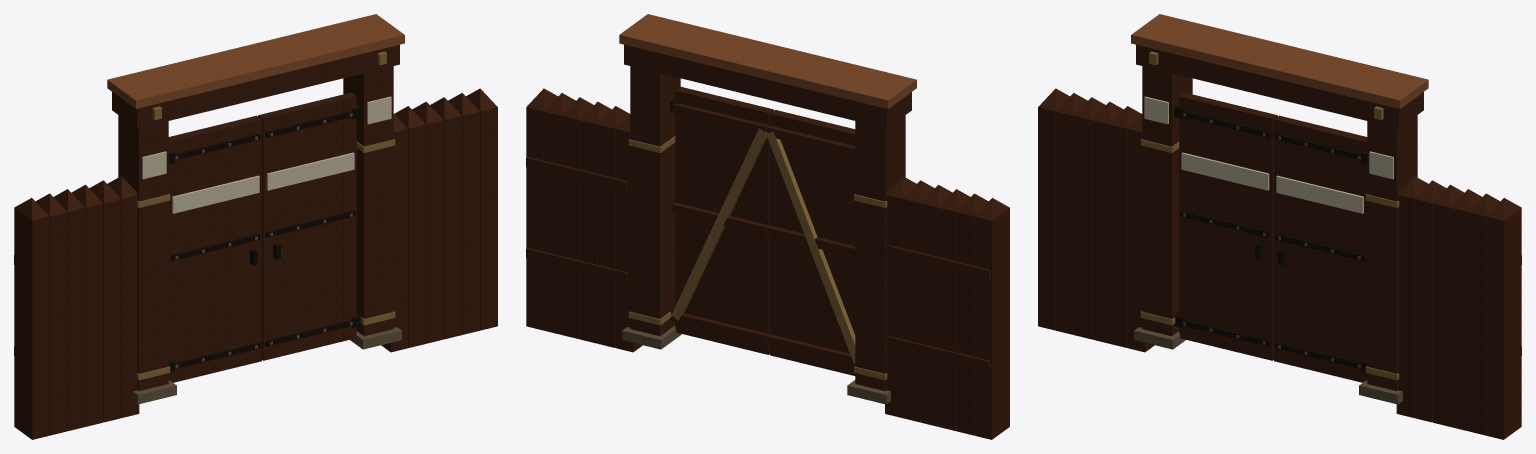
Rendered from Berber_PalisadeGate_Age1.fbx.
3 renders of one model, left to right at view 1: azimuth 30°, elevation 25°; view 2: azimuth 150°, elevation 25°; view 3: azimuth 330°, elevation 25°, orthographic.
Parts seen in each view (by area): view 1: lintel_earth_weather_cap, right_palm_gatepost, left_palm_gatepost, left_palisade_stake_5, mortised_palm_lintel, left_palisade_stake_3, left_palisade_stake_2, left_palisade_stake_4, left_palisade_stake_1, right_palisade_stake_1, right_palisade_stake_3, right_palisade_stake_2 (+30 smaller); view 2: right_palm_gatepost, lintel_earth_weather_cap, left_palm_gatepost, left_palisade_stake_5, mortised_palm_lintel, left_palisade_stake_1, left_palisade_stake_3, left_palisade_stake_2, left_palisade_stake_4, right_palisade_stake_3, right_palisade_stake_5, right_palisade_stake_1 (+32 smaller); view 3: lintel_earth_weather_cap, left_palm_gatepost, right_palm_gatepost, right_palisade_stake_5, mortised_palm_lintel, right_palisade_stake_3, right_palisade_stake_2, right_palisade_stake_4, left_palisade_stake_1, right_palisade_stake_1, left_palisade_stake_3, left_palisade_stake_2 (+30 smaller).
Part boxes in pixels (<box>): lintel_earth_weather_cap: <box>107,14,404,108</box>; right_palm_gatepost: <box>343,66,393,336</box>; left_palm_gatepost: <box>118,115,168,390</box>; left_palisade_stake_5: <box>14,198,49,439</box>; mortised_palm_lintel: <box>112,44,399,128</box>; left_palisade_stake_3: <box>53,189,85,430</box>; left_palisade_stake_2: <box>71,184,103,426</box>; left_palisade_stake_4: <box>35,193,67,435</box>; left_palisade_stake_1: <box>89,180,121,422</box>; right_palisade_stake_1: <box>394,106,426,347</box>; right_palisade_stake_3: <box>430,97,461,339</box>; right_palisade_stake_2: <box>412,101,443,343</box>; right_palm_gatepost: <box>630,66,680,336</box>; lintel_earth_weather_cap: <box>619,14,916,108</box>; left_palm_gatepost: <box>855,115,905,390</box>; left_palisade_stake_5: <box>974,198,1009,439</box>; mortised_palm_lintel: <box>624,44,911,128</box>; left_palisade_stake_1: <box>902,180,934,422</box>; left_palisade_stake_3: <box>938,189,970,430</box>; left_palisade_stake_2: <box>920,184,952,426</box>; left_palisade_stake_4: <box>956,193,988,435</box>; right_palisade_stake_3: <box>562,97,593,339</box>; right_palisade_stake_5: <box>526,88,557,330</box>; right_palisade_stake_1: <box>598,106,629,347</box>; lintel_earth_weather_cap: <box>1131,14,1428,108</box>; left_palm_gatepost: <box>1142,66,1192,336</box>; right_palm_gatepost: <box>1367,115,1417,390</box>; right_palisade_stake_5: <box>1486,198,1521,439</box>; mortised_palm_lintel: <box>1136,44,1423,128</box>; right_palisade_stake_3: <box>1450,189,1482,430</box>; right_palisade_stake_2: <box>1432,184,1464,426</box>; right_palisade_stake_4: <box>1468,193,1500,435</box>; left_palisade_stake_1: <box>1109,106,1141,347</box>; right_palisade_stake_1: <box>1414,180,1446,422</box>; left_palisade_stake_3: <box>1074,97,1105,339</box>; left_palisade_stake_2: <box>1092,101,1123,343</box>.
Size of the model in its own units: 1018 by 667 by 110.
6 materials, 6 textured.
